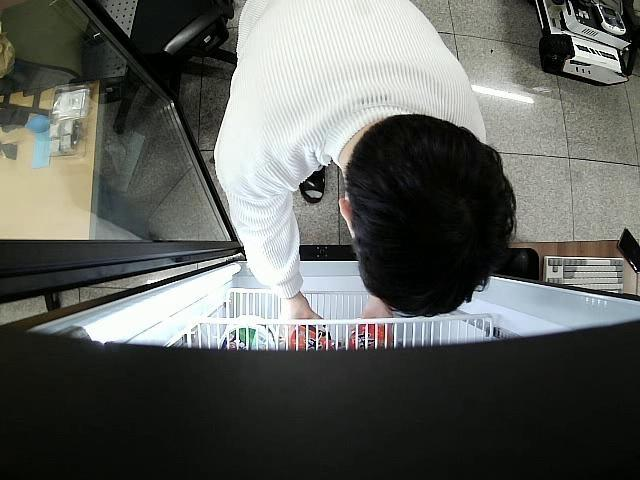02_shinRamen_S: (346, 322, 389, 351), (288, 324, 332, 352)
